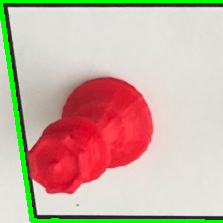Red Queen: (24, 72, 155, 199)
